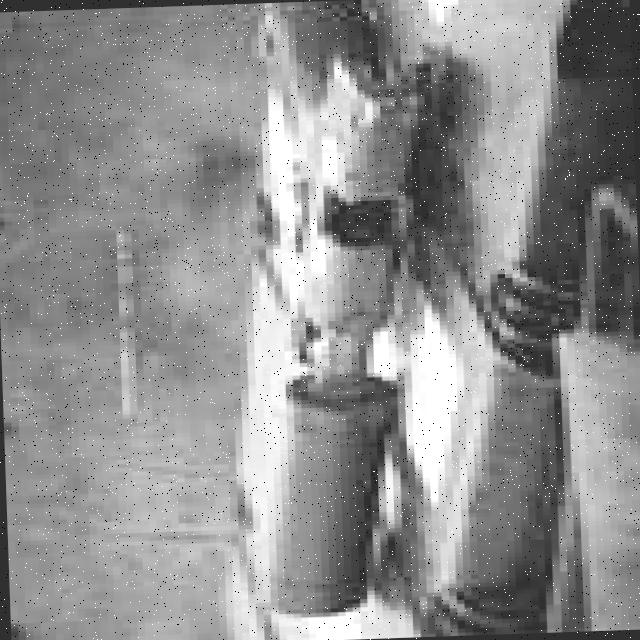pistol: (226, 0, 471, 622)
